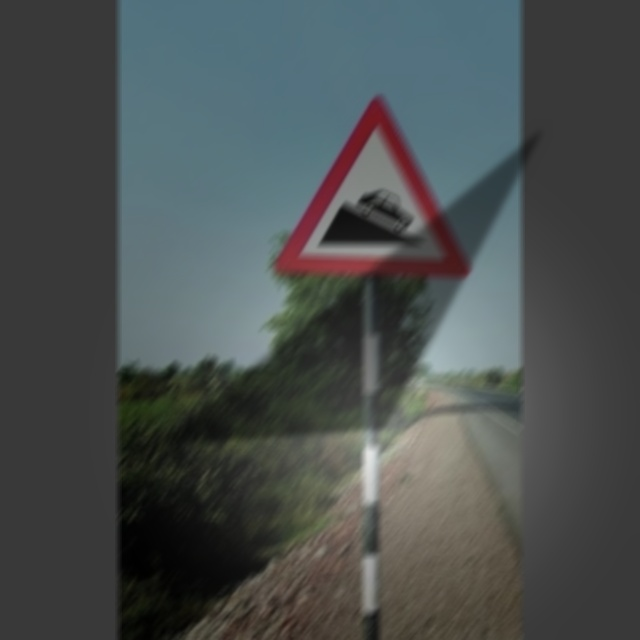Steep_Descent: (280, 96, 469, 281)
